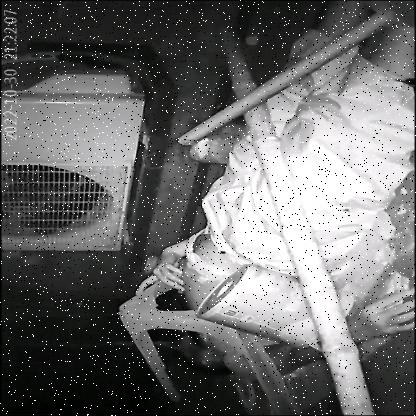hand: (108, 243, 218, 298), (347, 280, 416, 346)
